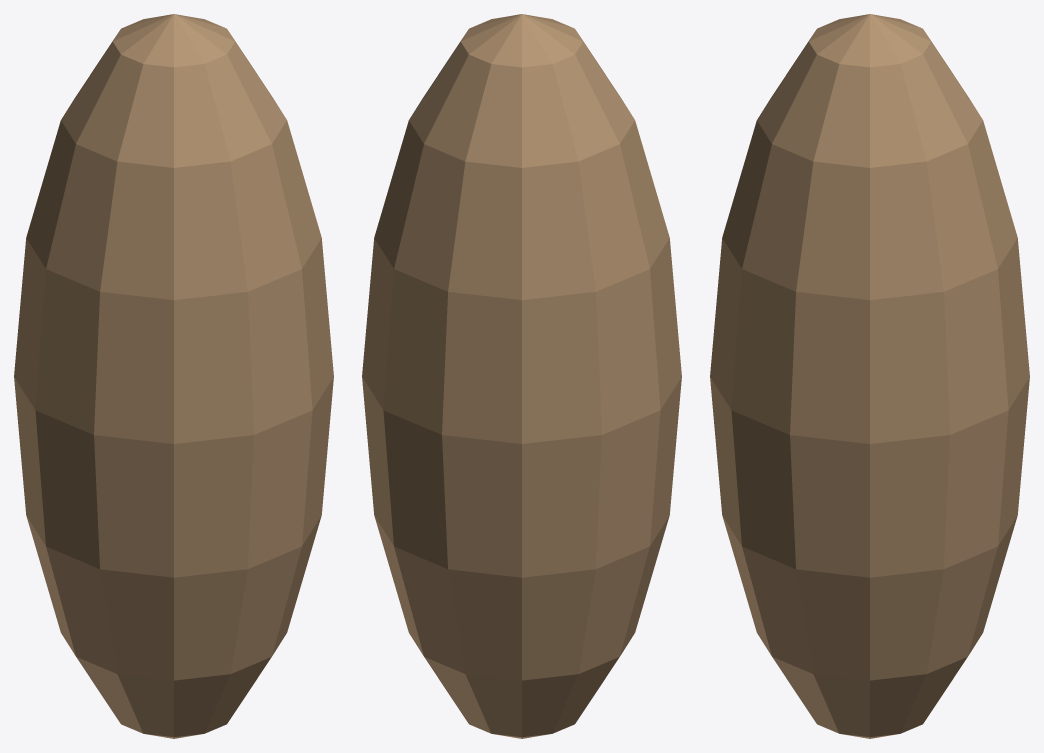
Rendered from beast_leg_R.fbx.
3 views of the same model, side by side, from view 1: azimuth 30°, elevation 25°; view 2: azimuth 150°, elevation 25°; view 3: azimuth 270°, elevation 25° (orthographic).
Visible parts, largest first — view 1: beast_leg_R_geo; view 2: beast_leg_R_geo; view 3: beast_leg_R_geo.
Part boxes in pixels (x1,y1,x2,y2): beast_leg_R_geo: [14, 14, 333, 738]; beast_leg_R_geo: [362, 14, 681, 738]; beast_leg_R_geo: [710, 14, 1029, 738].
Size of the model in its own units: 14 by 35 by 14.
